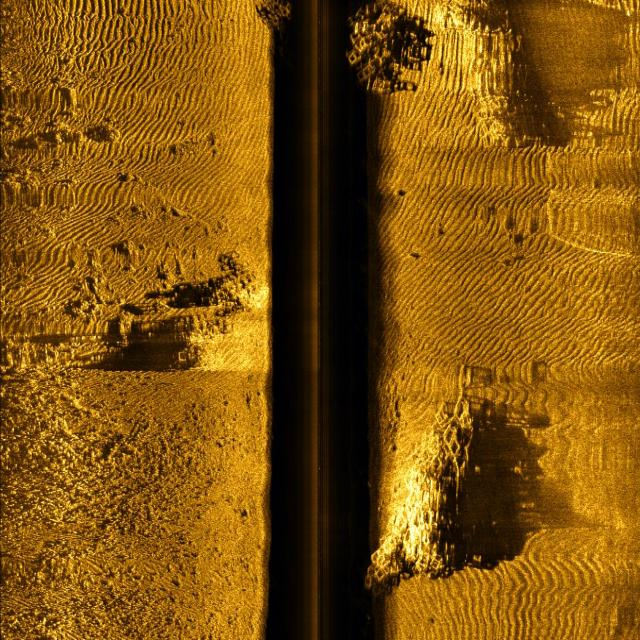artificial reef: (358, 361, 487, 602), (342, 1, 412, 130), (256, 0, 297, 39)
